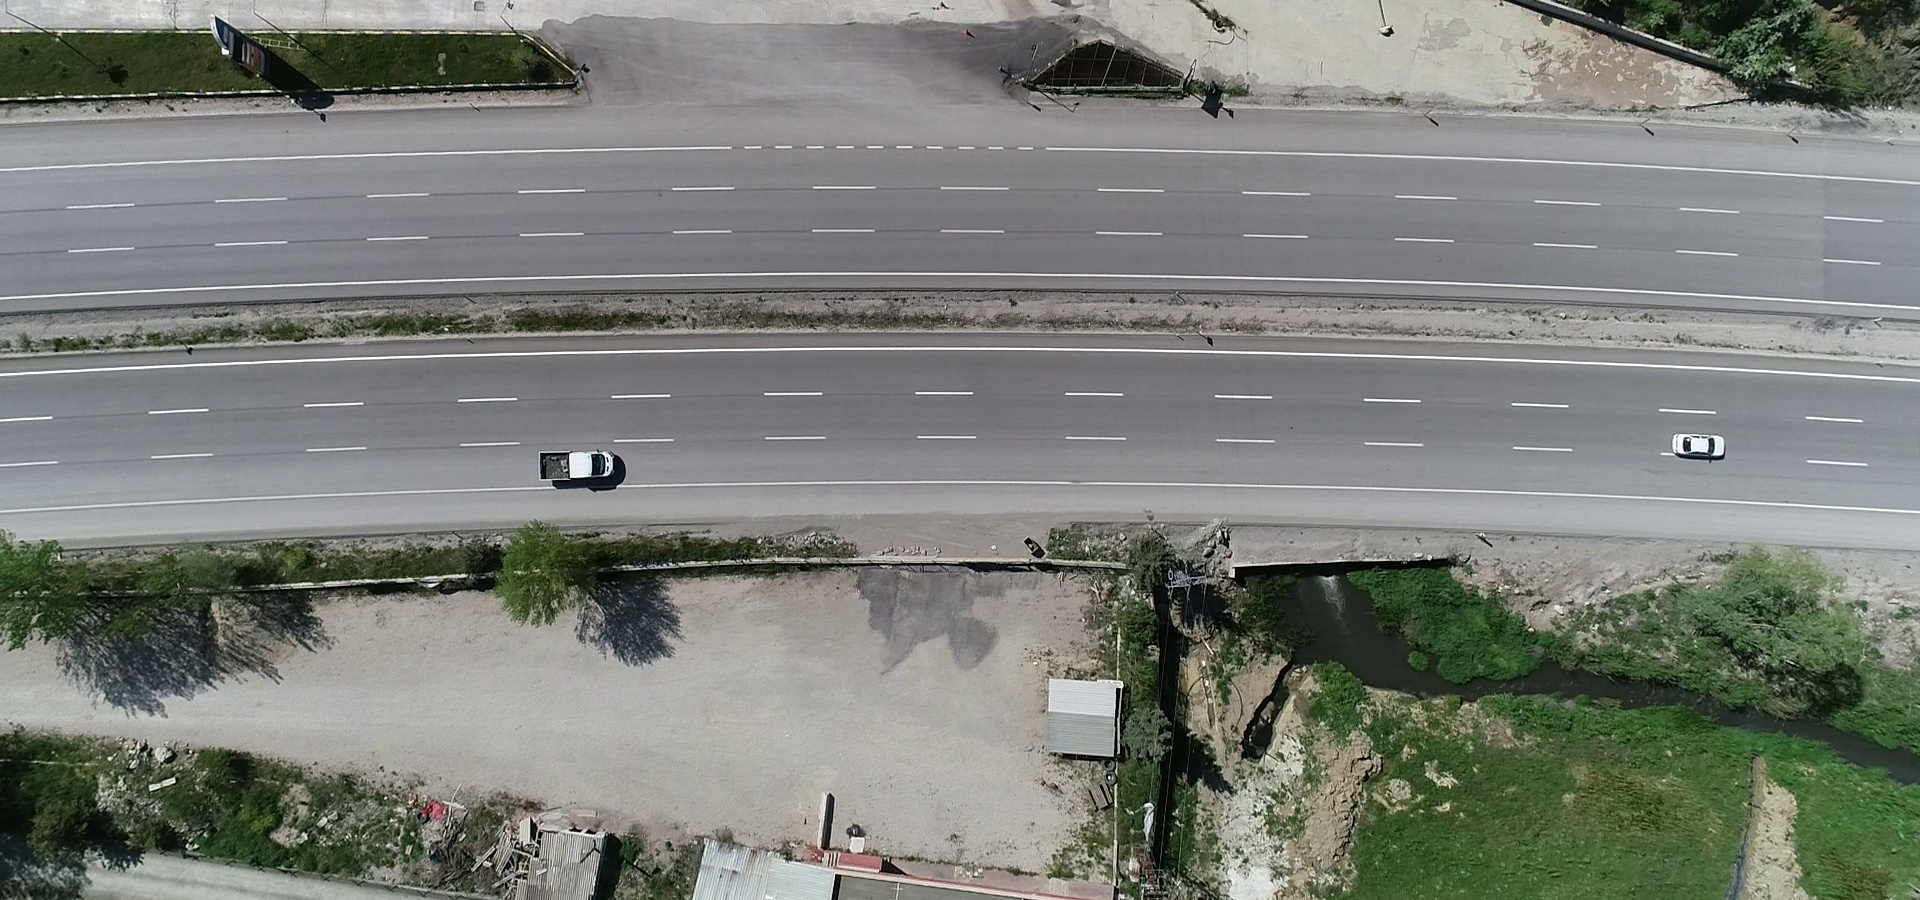arac: (531, 442, 633, 490), (1669, 431, 1731, 463)
